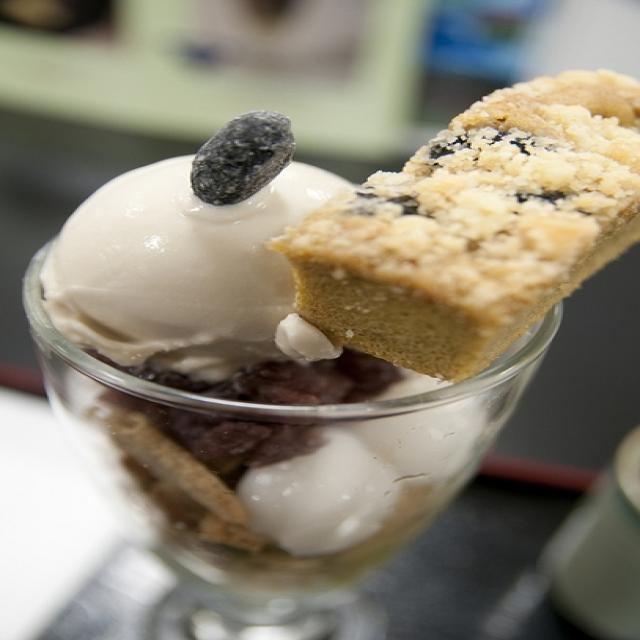蛋糕甜品: (11, 26, 629, 605)
